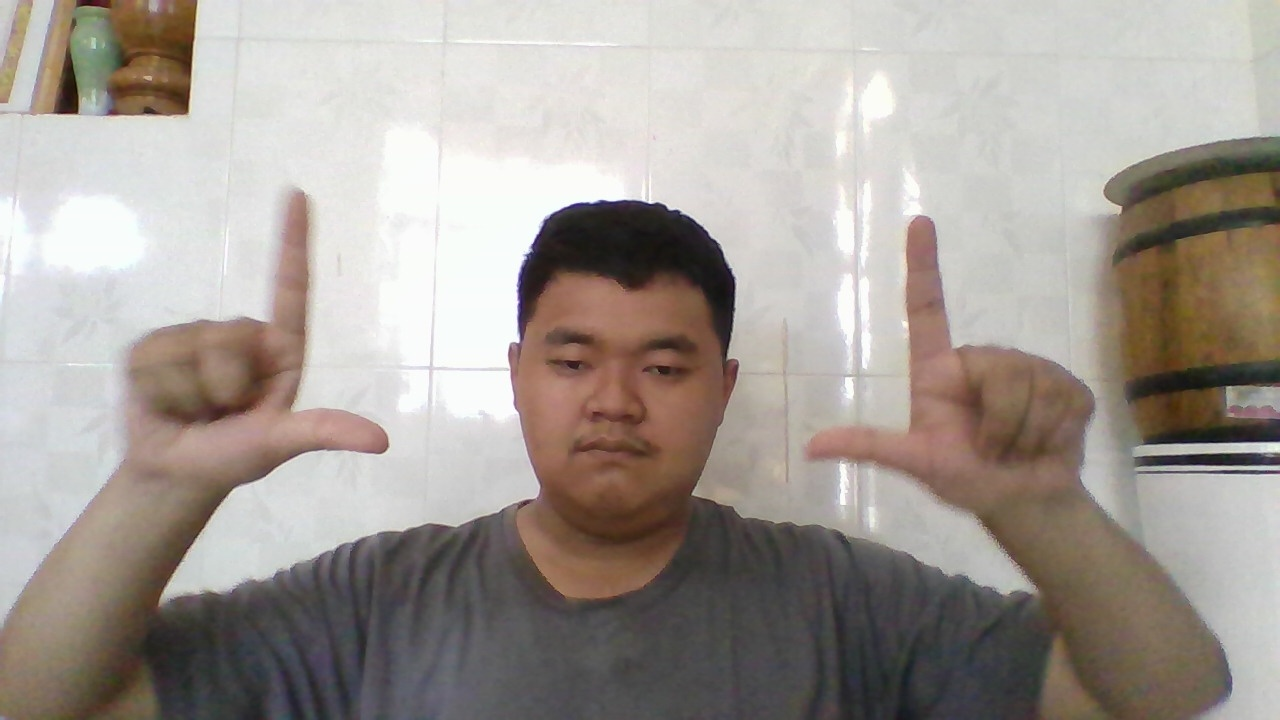L: (806, 209, 1088, 519), (138, 188, 390, 495)
